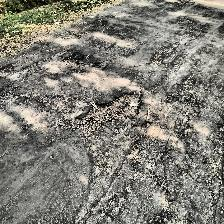pothole: (71, 88, 144, 130), (148, 46, 174, 64), (0, 65, 14, 73)
